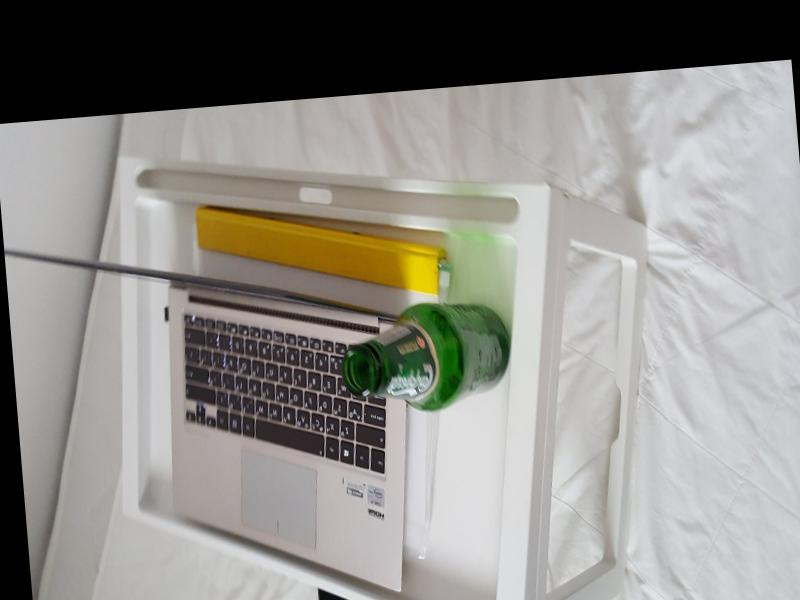Beer: (338, 297, 515, 415)
